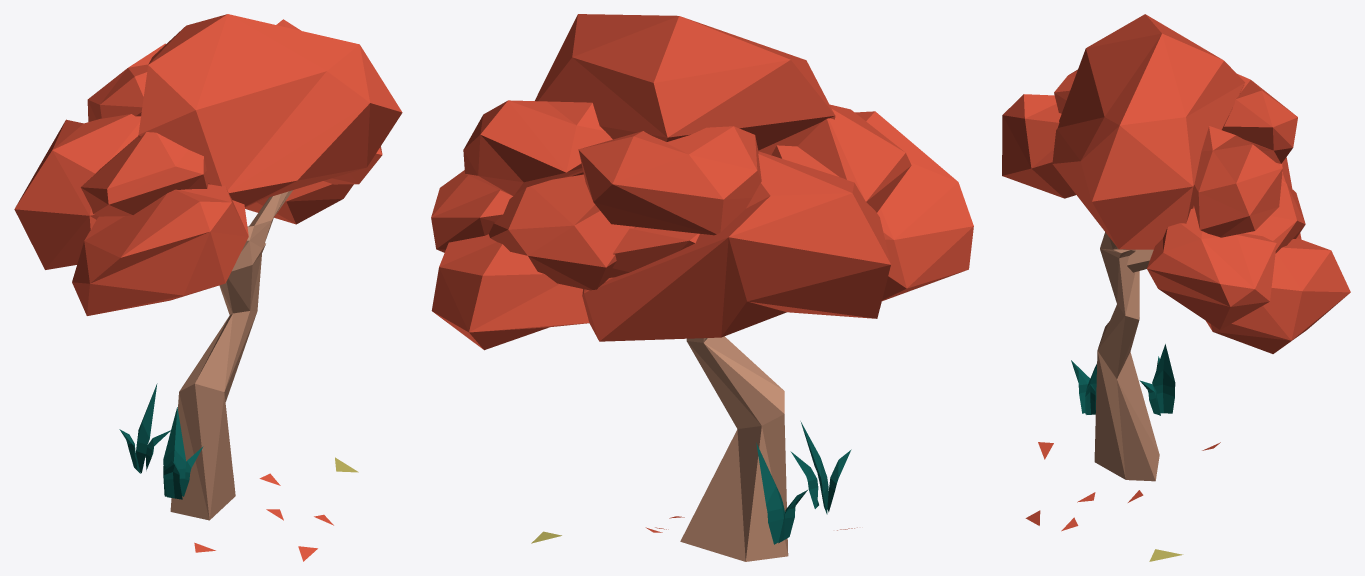
File: red_tree.fbx
3 renders of one model, left to right at view 1: azimuth 30°, elevation 25°; view 2: azimuth 150°, elevation 25°; view 3: azimuth 270°, elevation 25°, orthographic. The views are drawn at different scales.
Visible parts, largest first — view 1: red tree, plant.003, plant.004; view 2: red tree, plant.004, plant.003; view 3: red tree, plant.004, plant.003.
Boxes of the visible parts, x1,y1,x2,y2 form: red tree: (14, 14, 402, 561); plant.003: (163, 407, 203, 499); plant.004: (119, 383, 170, 473); red tree: (431, 14, 973, 561); plant.004: (756, 443, 807, 544); plant.003: (790, 421, 851, 514); red tree: (1002, 14, 1350, 561); plant.004: (1139, 344, 1175, 415); plant.003: (1071, 360, 1096, 414).
Bounding box in the file's own units: 216 × 272 × 178.
